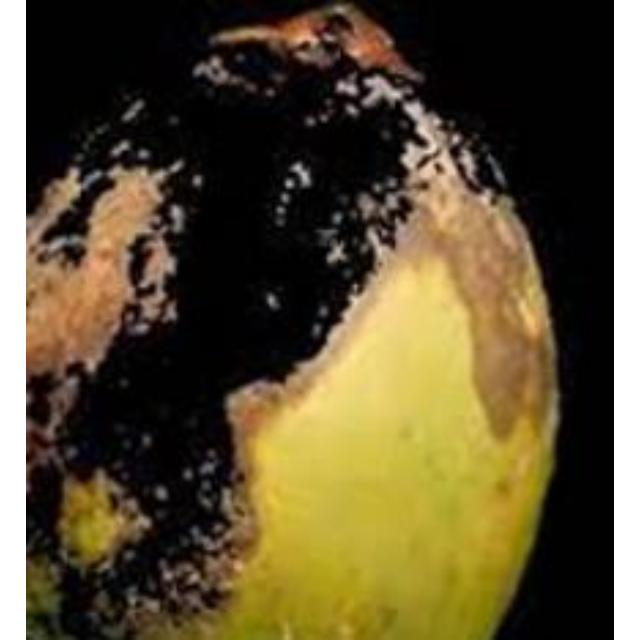damaged: (26, 0, 565, 637)
